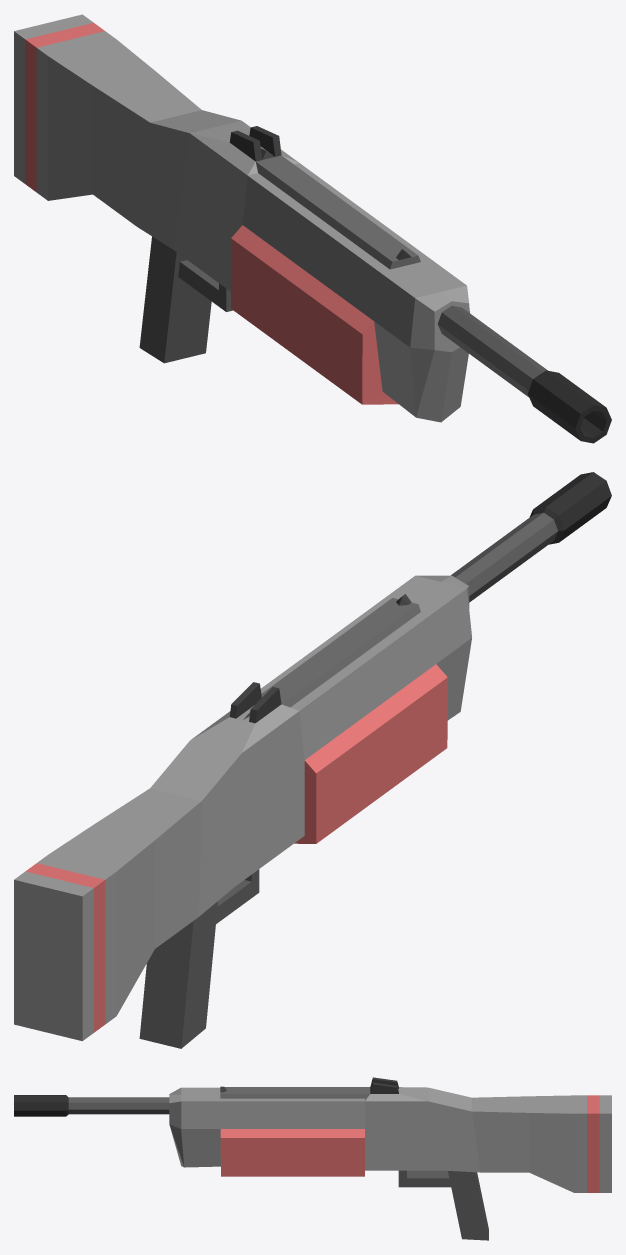
File: AssaultRifle.fbx
The picture shows the model from 3 angles, top to bottom: view 1: azimuth 30°, elevation 25°; view 2: azimuth 150°, elevation 25°; view 3: azimuth 270°, elevation 25°; orthographic projection. The views are drawn at different scales.
Visible parts, largest first — view 1: Cube.005; view 2: Cube.005; view 3: Cube.005.
Boxes of the visible parts, x1,y1,x2,y2 form: Cube.005: (14, 14, 611, 443); Cube.005: (14, 472, 611, 1048); Cube.005: (14, 1077, 611, 1240).
Bounding box in the file's own units: 7.53 × 23.75 × 83.48.
